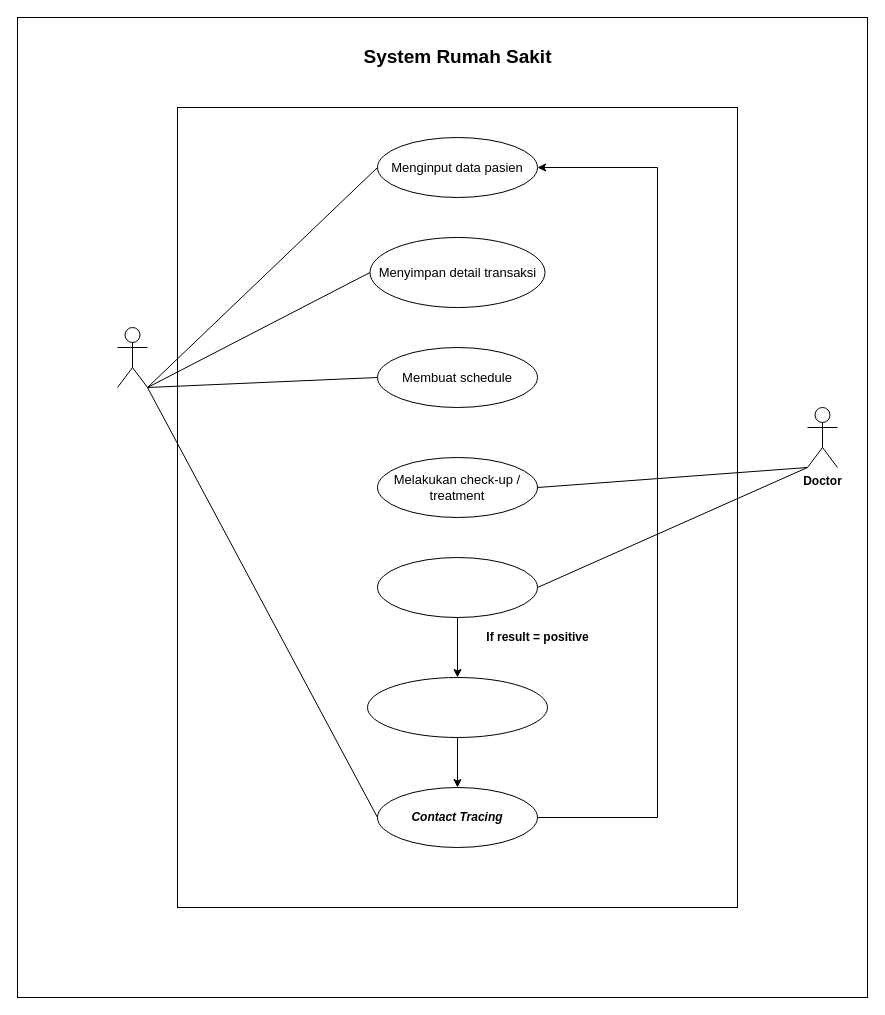
Some shapes in this 885 by 1015 pixel diagram are drawn without their labels. Each missing label, with the centre of its shape:
Menyimpan data / informasi untuk contact tracing: the point at 457,707
Staff: the point at 132,357
Submit result dan comment: the point at 457,587
